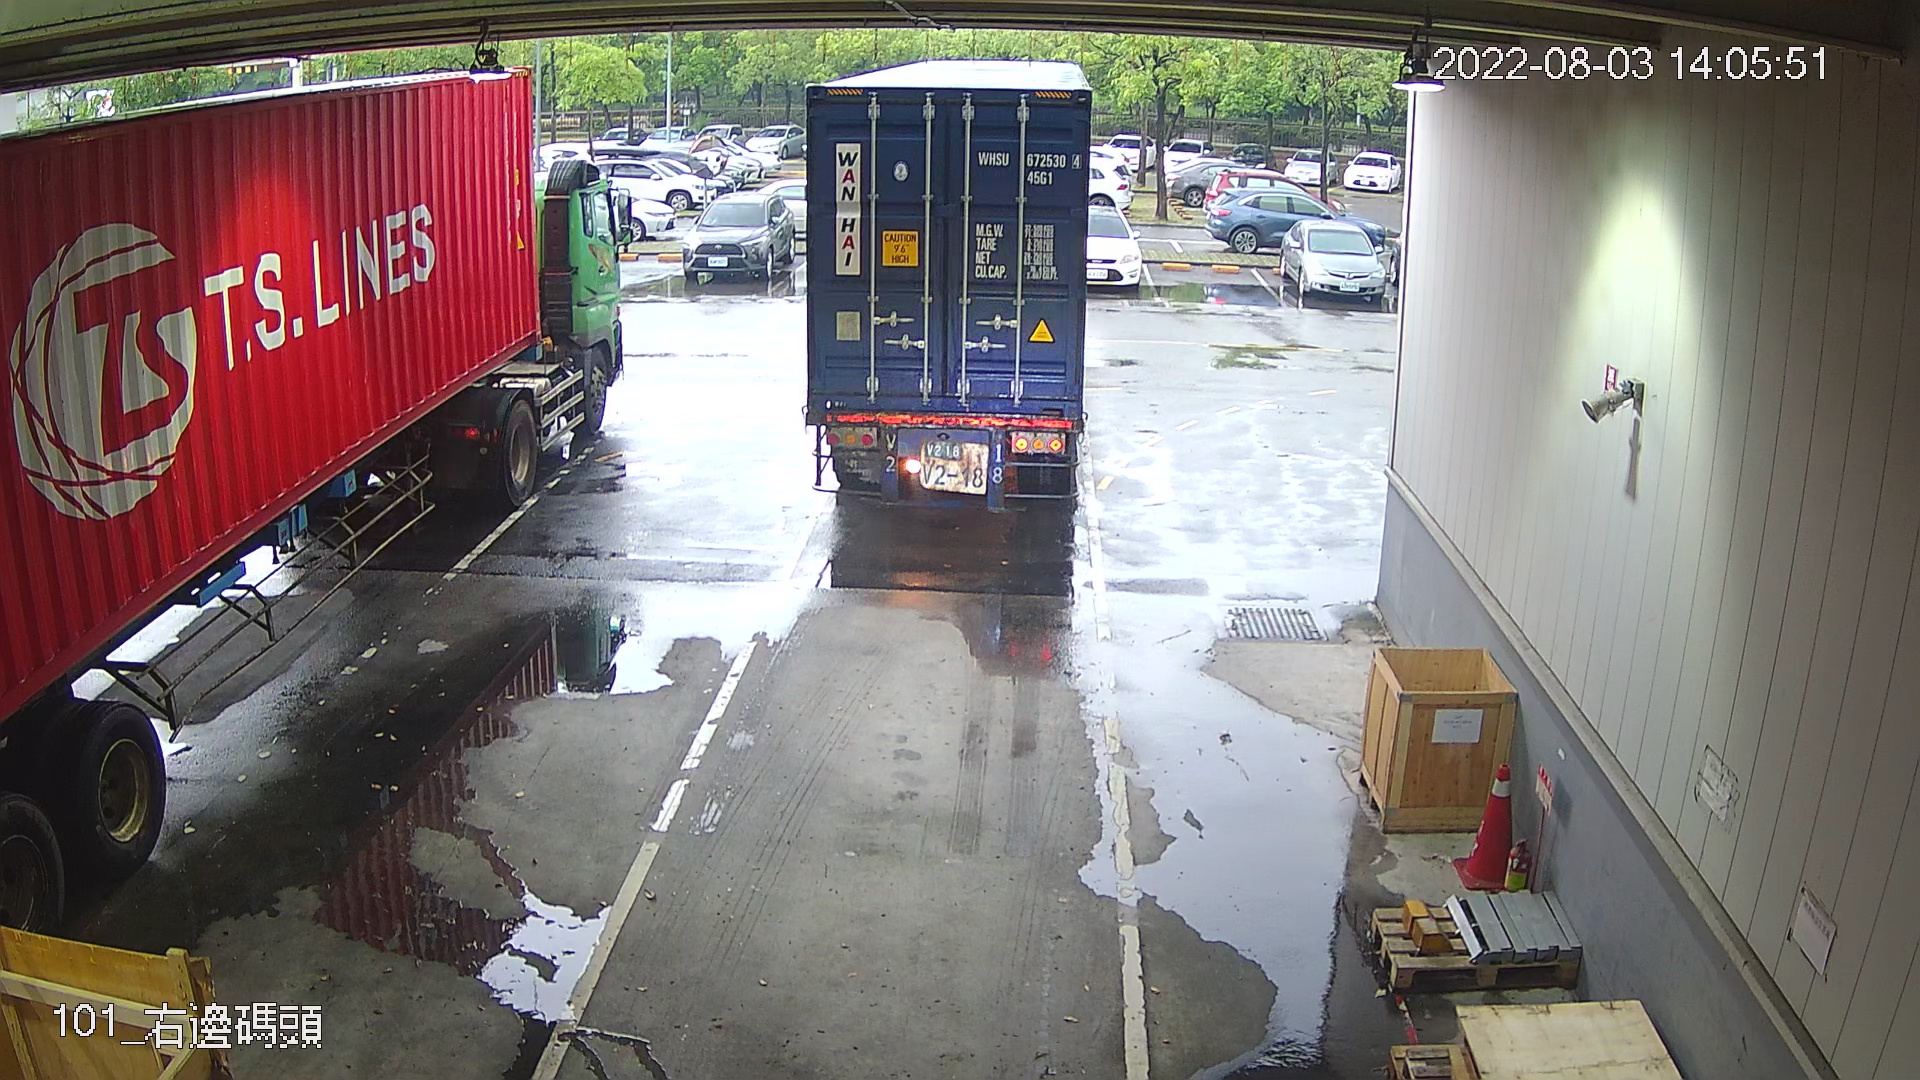container: (972, 144, 1084, 191)
